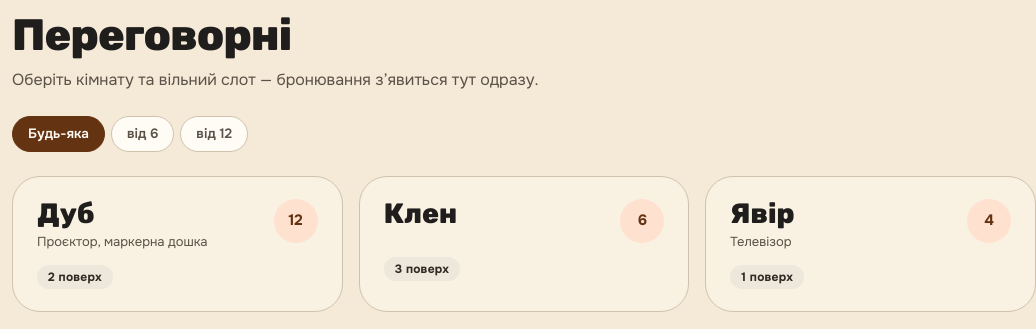
capacity filter › refetches with ?minCapacity=12 and writes the choice to the URL
The width and height of the screenshot is (1036, 329).
Check: the link "Дуб Проєктор, маркерна дошка 12 2 поверх" is shown, box [12,176,343,312]
Click the radio button labelled "від 12": {"x": 214, "y": 134} [180,116,248,152]
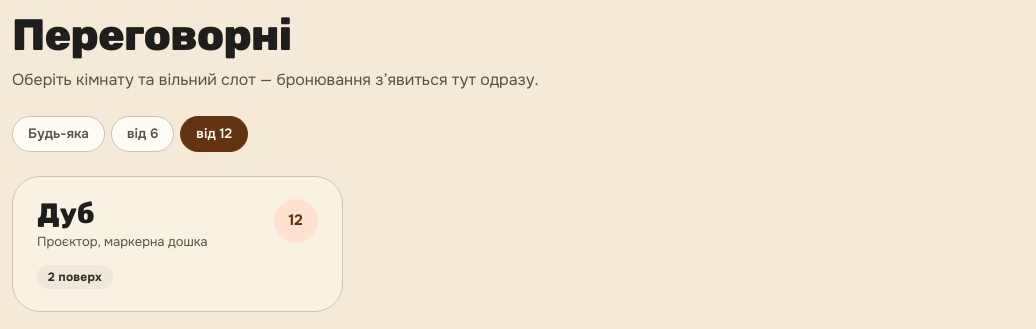
Check: the link "Явір" is gone
